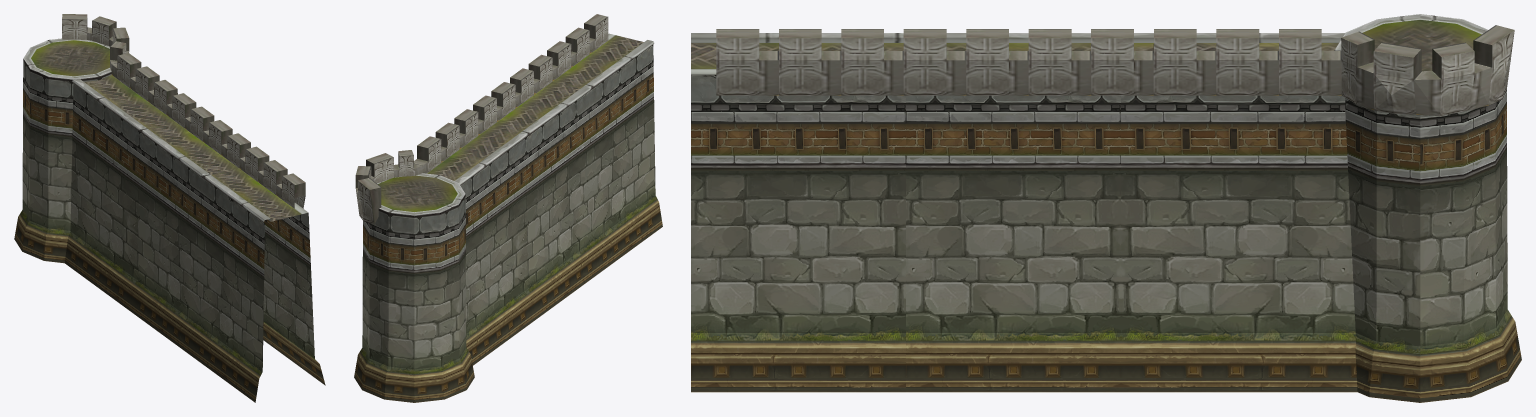
File: DN_mcwall03.FBX
3 renders of one model, left to right at view 1: azimuth 30°, elevation 25°; view 2: azimuth 150°, elevation 25°; view 3: azimuth 270°, elevation 25°, orthographic. The views are drawn at different scales.
Visible parts, largest first — view 1: DN_mcwall03; view 2: DN_mcwall03; view 3: DN_mcwall03.
Boxes of the visible parts, left/top/right/bottom form: DN_mcwall03: left=14, top=14, right=325, bottom=402; DN_mcwall03: left=354, top=14, right=662, bottom=402; DN_mcwall03: left=691, top=14, right=1521, bottom=402.
Bounding box in the file's own units: 706 × 1315 × 2882.
Materials: 1 (1 with a texture image).
